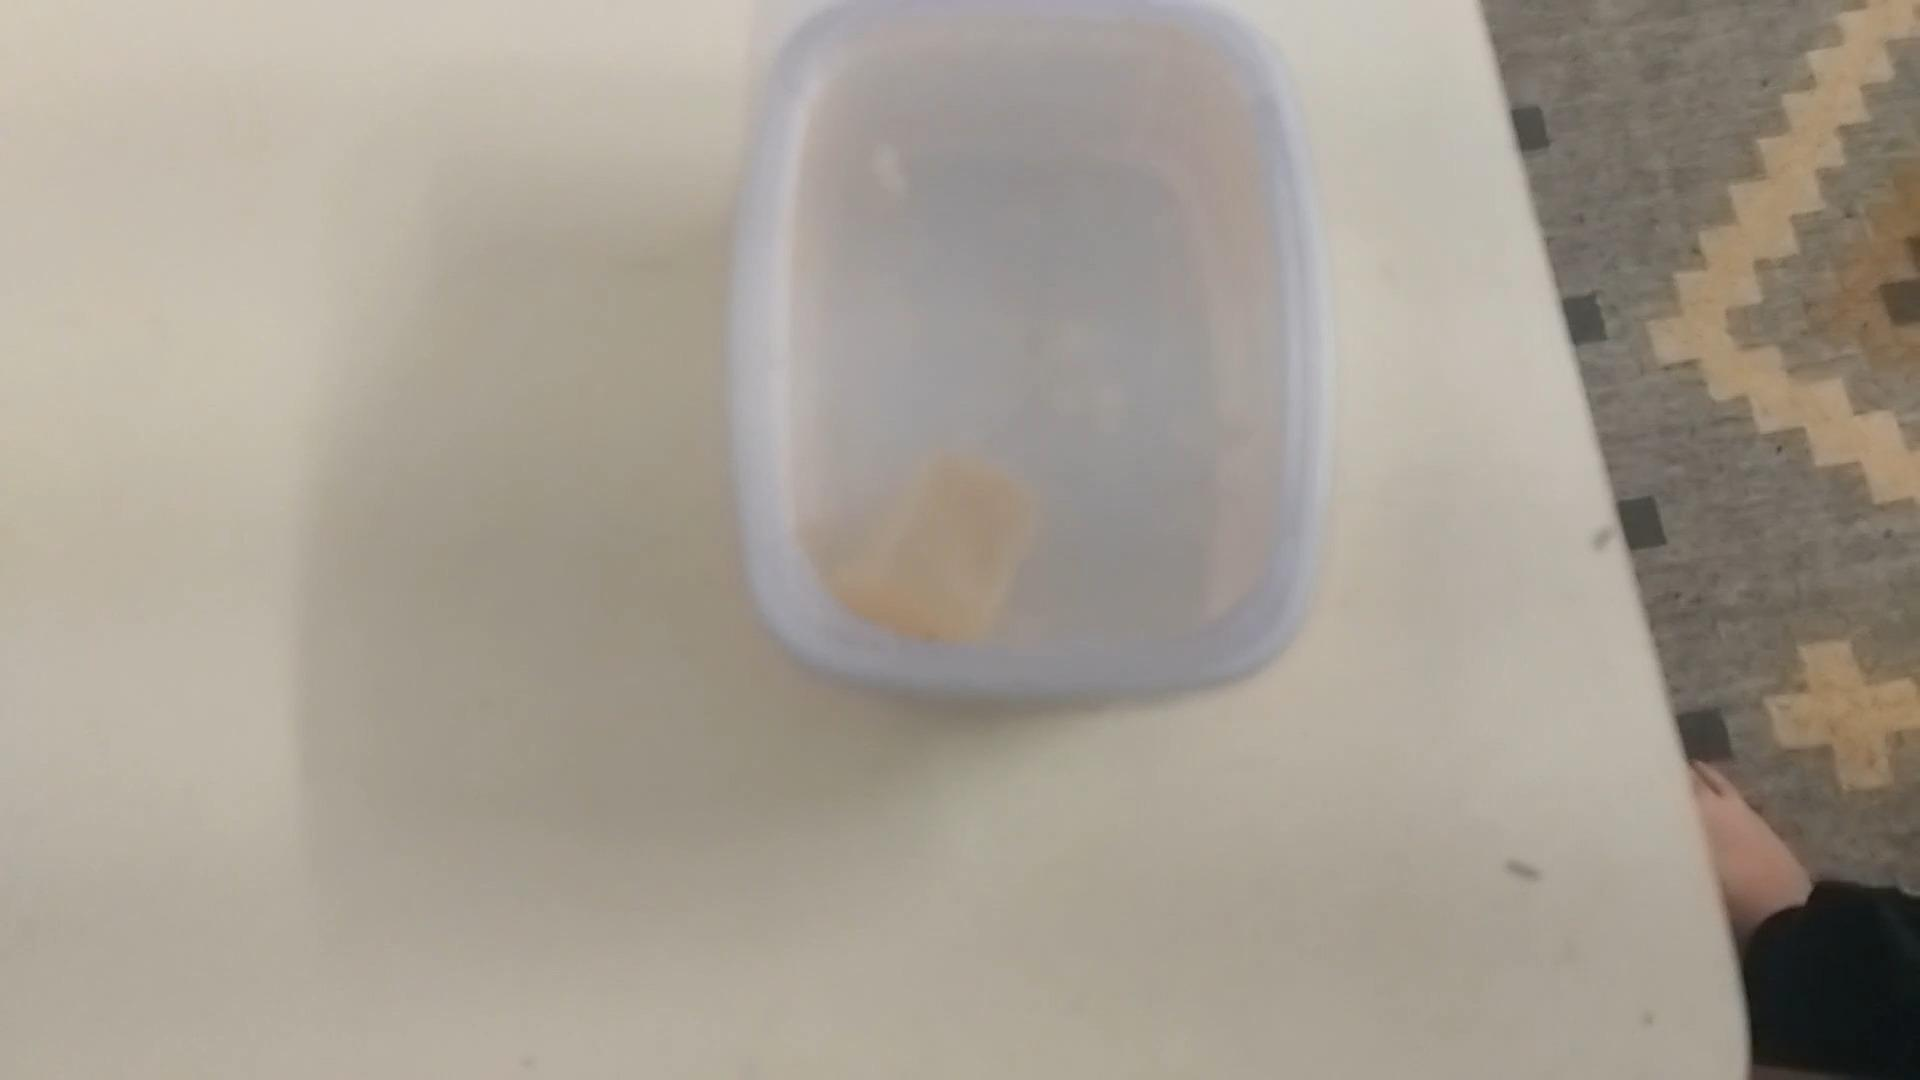butter: (733, 12, 1315, 712)
